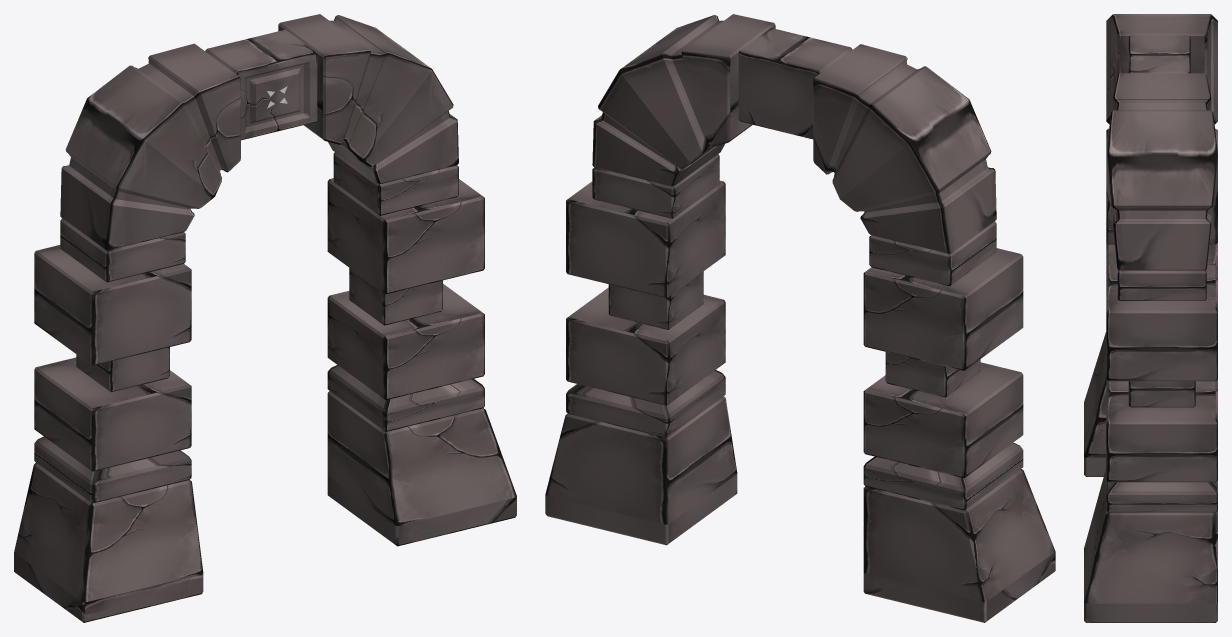
Rendered from DoorBase.fbx.
3 views of the same model, side by side, from view 1: azimuth 30°, elevation 25°; view 2: azimuth 150°, elevation 25°; view 3: azimuth 270°, elevation 25° (orthographic). The views are drawn at different scales.
Parts seen in each view (by area): view 1: DoorBase; view 2: DoorBase; view 3: DoorBase.
Part boxes in pixels (box(x1,y1,x2,y2)): DoorBase: box(14, 14, 516, 622); DoorBase: box(545, 14, 1055, 622); DoorBase: box(1084, 14, 1217, 622).
Size of the model in its own units: 215 by 232 by 60.
